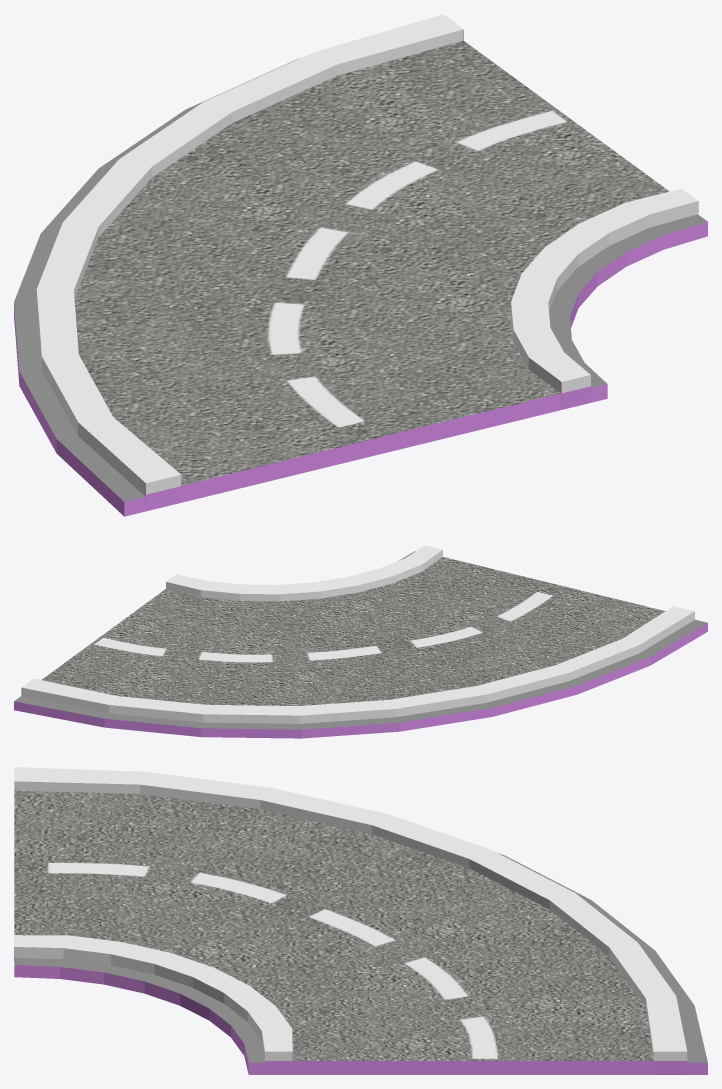
File: 90TURN.fbx
The picture shows the model from 3 angles, top to bottom: view 1: azimuth 30°, elevation 25°; view 2: azimuth 150°, elevation 25°; view 3: azimuth 270°, elevation 25°; orthographic projection. The views are drawn at different scales.
Parts seen in each view (by area): view 1: 90Turn; view 2: 90Turn; view 3: 90Turn.
Boxes of the visible parts, x1,y1,x2,y2 form: 90Turn: (14, 14, 707, 516); 90Turn: (14, 545, 707, 738); 90Turn: (14, 767, 707, 1074).
Size of the model in its own units: 900 by 33.5 by 901.
